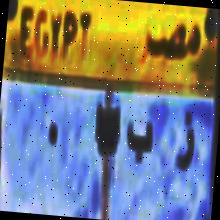0: (47, 112, 61, 153)
baa: (123, 116, 158, 170)
zay: (173, 104, 200, 180)
